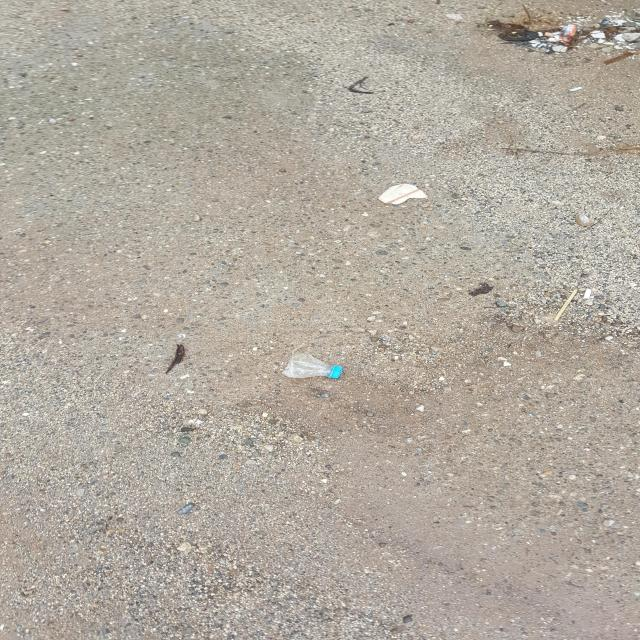Cigarette: (570, 87, 582, 92)
Clear plastic bottle: (283, 353, 343, 378)
Other plastic: (379, 183, 428, 205)
Other plastic wrapper: (559, 24, 576, 46)
Plastic bottle cap: (332, 366, 343, 378)
Unlabeled litter: (498, 30, 539, 41)
